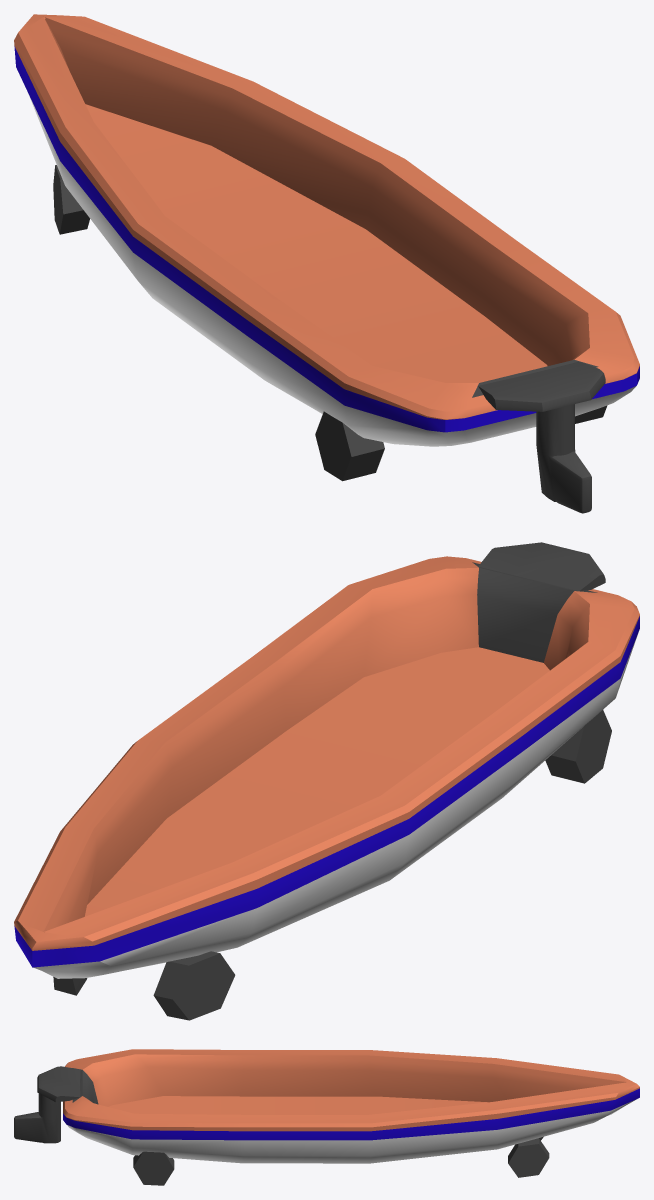
The model's file is gusto.fbx.
The picture shows the model from 3 angles, top to bottom: view 1: azimuth 30°, elevation 25°; view 2: azimuth 150°, elevation 25°; view 3: azimuth 270°, elevation 25°; orthographic projection. The views are drawn at different scales.
Parts seen in each view (by area): view 1: Gusto; view 2: Gusto; view 3: Gusto.
Part boxes in pixels (x1,y1,x2,y2): Gusto: [14, 14, 639, 513]; Gusto: [14, 542, 639, 1020]; Gusto: [14, 1049, 639, 1185].
Size of the model in its own units: 31.53 by 14.78 by 110.
